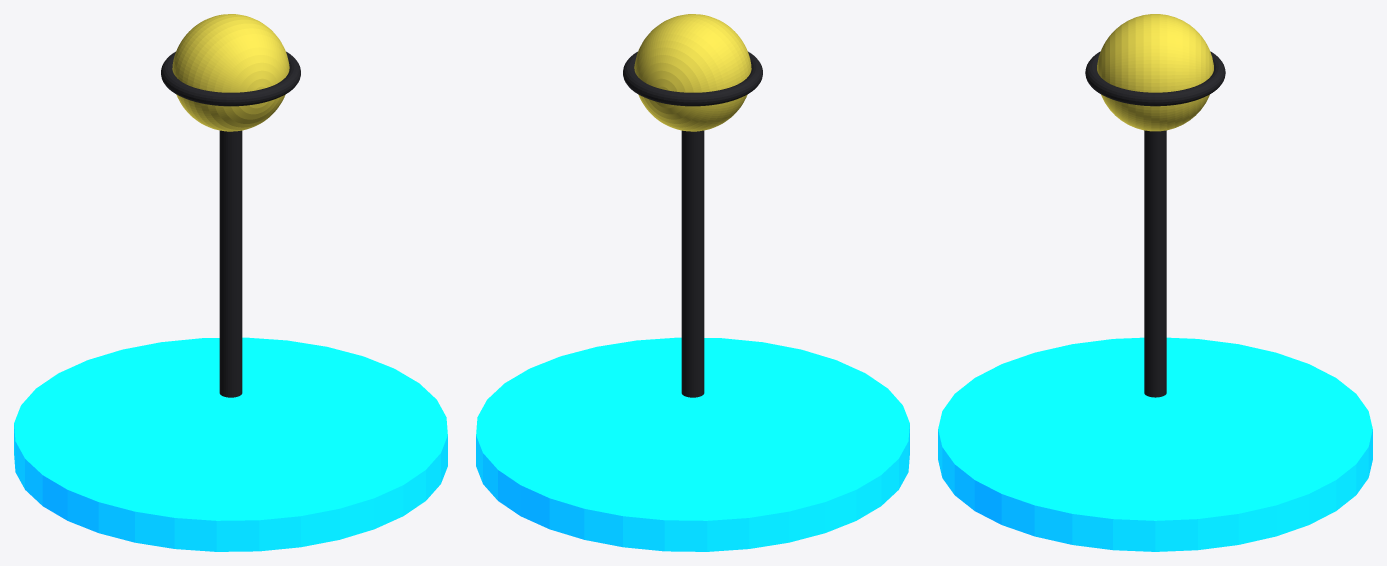
The model's file is french_street_lamp.glb.
3 renders of one model, left to right at view 1: azimuth 30°, elevation 25°; view 2: azimuth 150°, elevation 25°; view 3: azimuth 270°, elevation 25°, orthographic.
Visible parts, largest first — view 1: 10_20_Popular_French_Street_Lamp_ROOT_base, 10_20_Popular_French_Street_Lamp_part_02, 10_20_Popular_French_Street_Lamp_part_01, 10_20_Popular_French_Street_Lamp_part_03; view 2: 10_20_Popular_French_Street_Lamp_ROOT_base, 10_20_Popular_French_Street_Lamp_part_02, 10_20_Popular_French_Street_Lamp_part_01, 10_20_Popular_French_Street_Lamp_part_03; view 3: 10_20_Popular_French_Street_Lamp_ROOT_base, 10_20_Popular_French_Street_Lamp_part_02, 10_20_Popular_French_Street_Lamp_part_01, 10_20_Popular_French_Street_Lamp_part_03.
Boxes of the visible parts, left/top/right/bottom form: 10_20_Popular_French_Street_Lamp_ROOT_base: left=14, top=337, right=447, bottom=551; 10_20_Popular_French_Street_Lamp_part_02: left=172, top=14, right=289, bottom=131; 10_20_Popular_French_Street_Lamp_part_01: left=219, top=130, right=242, bottom=397; 10_20_Popular_French_Street_Lamp_part_03: left=161, top=51, right=300, bottom=106; 10_20_Popular_French_Street_Lamp_ROOT_base: left=476, top=337, right=909, bottom=551; 10_20_Popular_French_Street_Lamp_part_02: left=634, top=14, right=751, bottom=131; 10_20_Popular_French_Street_Lamp_part_01: left=681, top=130, right=704, bottom=397; 10_20_Popular_French_Street_Lamp_part_03: left=623, top=51, right=762, bottom=106; 10_20_Popular_French_Street_Lamp_ROOT_base: left=938, top=337, right=1372, bottom=551; 10_20_Popular_French_Street_Lamp_part_02: left=1097, top=14, right=1213, bottom=131; 10_20_Popular_French_Street_Lamp_part_01: left=1144, top=130, right=1166, bottom=397; 10_20_Popular_French_Street_Lamp_part_03: left=1085, top=51, right=1225, bottom=106.
Bounding box in the file's own units: 0.76 × 0.85 × 0.76.
